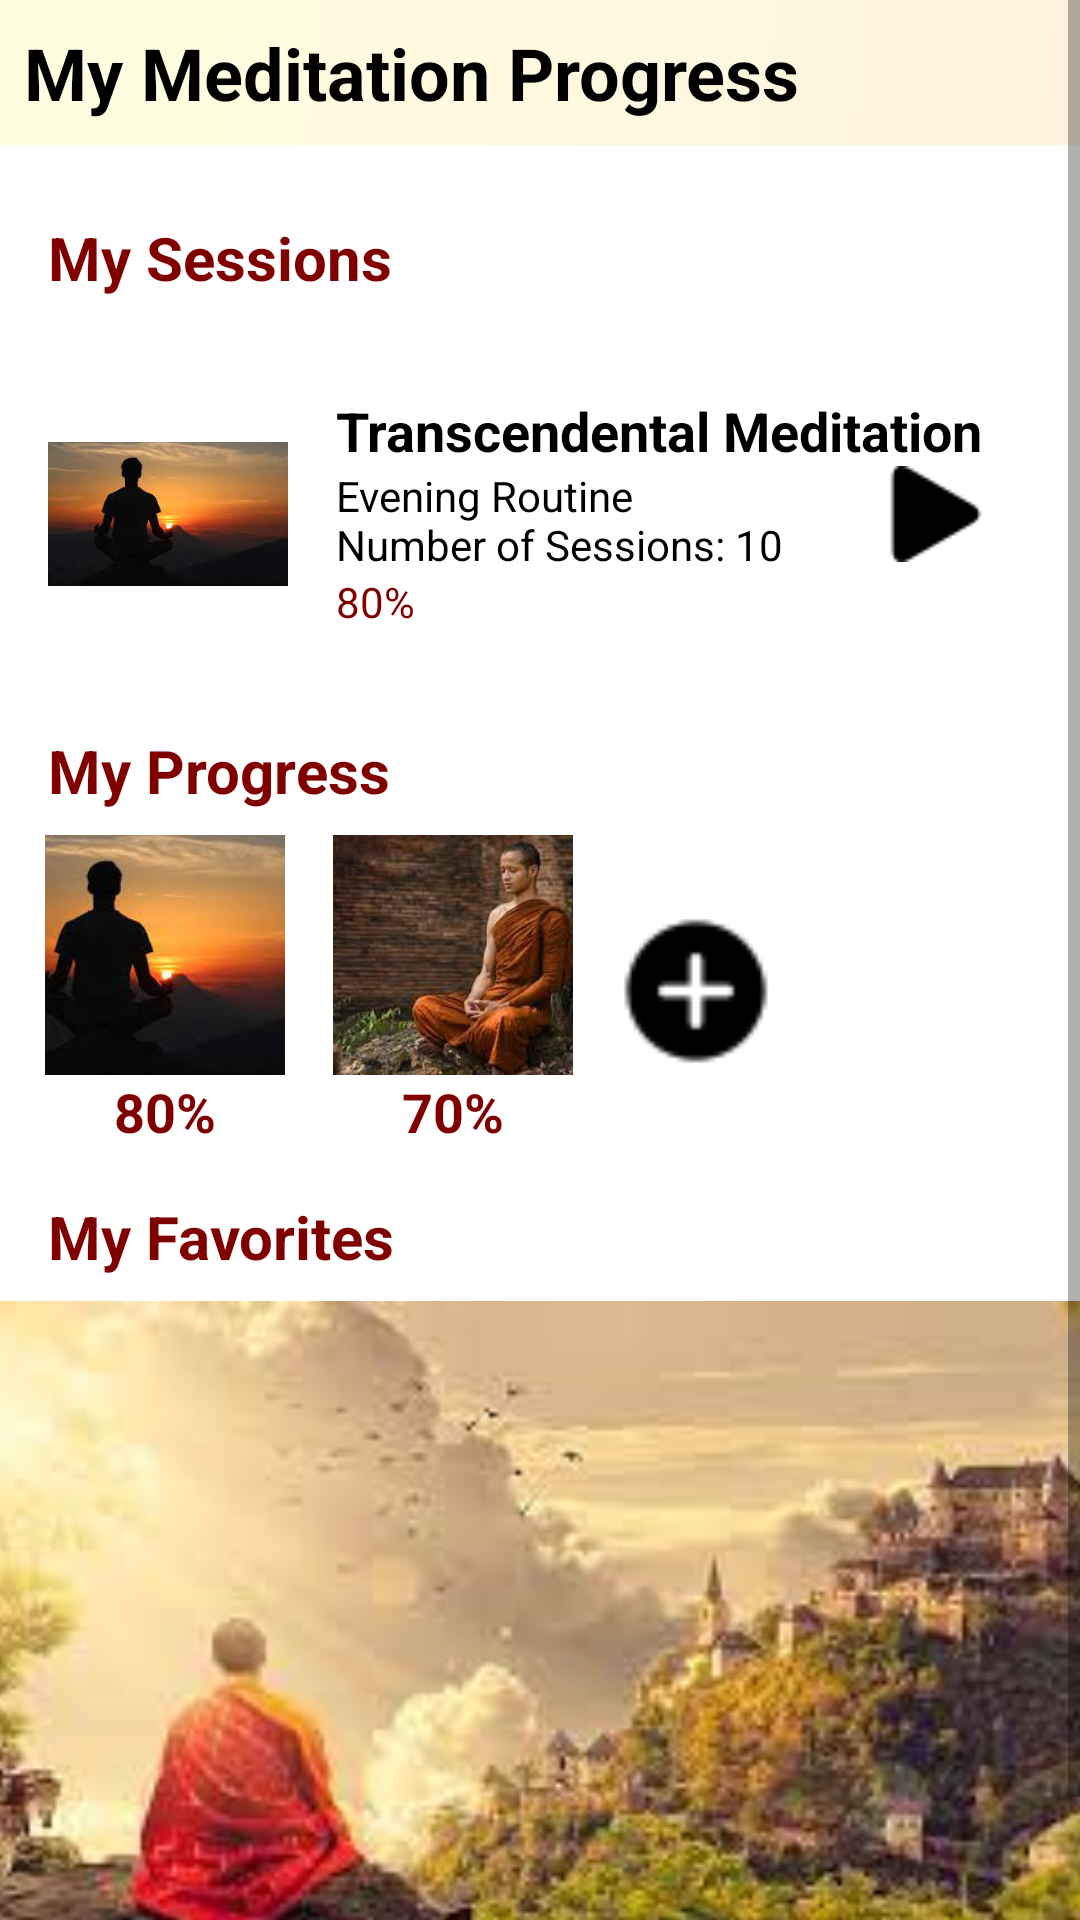

Named icons in this screenshot (1080 × 1920) and their bounding boxes, box(x1, y1, x2, y2):
Add: box(624, 919, 768, 1063)
Play session: box(890, 466, 982, 562)
Yoga Meditation: box(45, 835, 285, 1075)
